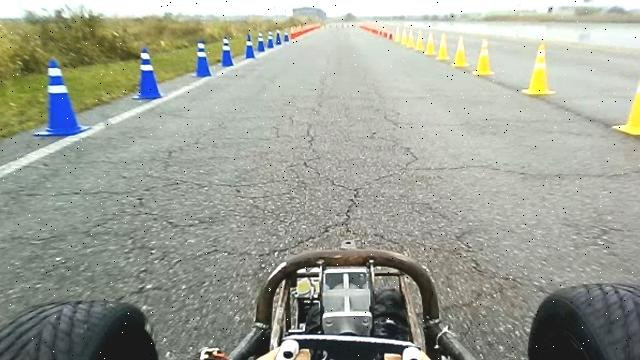blue cone: (33, 57, 91, 137), (132, 47, 162, 100), (193, 38, 212, 78), (220, 35, 234, 67), (244, 33, 256, 59), (256, 31, 266, 52), (266, 30, 274, 48), (275, 30, 282, 45), (284, 30, 290, 42)
yellow cone: (612, 56, 640, 136), (521, 43, 556, 96), (472, 39, 494, 76), (452, 34, 469, 68), (436, 33, 449, 61), (424, 32, 436, 56), (415, 30, 424, 51), (406, 29, 415, 49), (400, 27, 408, 46)
